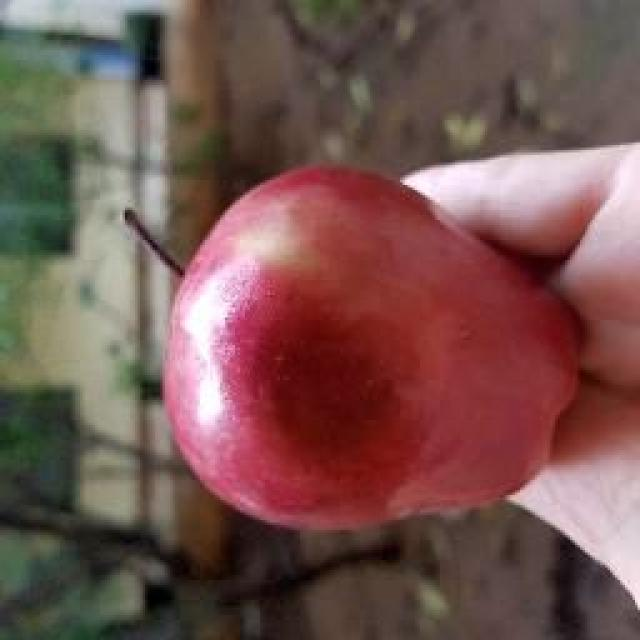Good_Apple: (160, 165, 580, 535)
